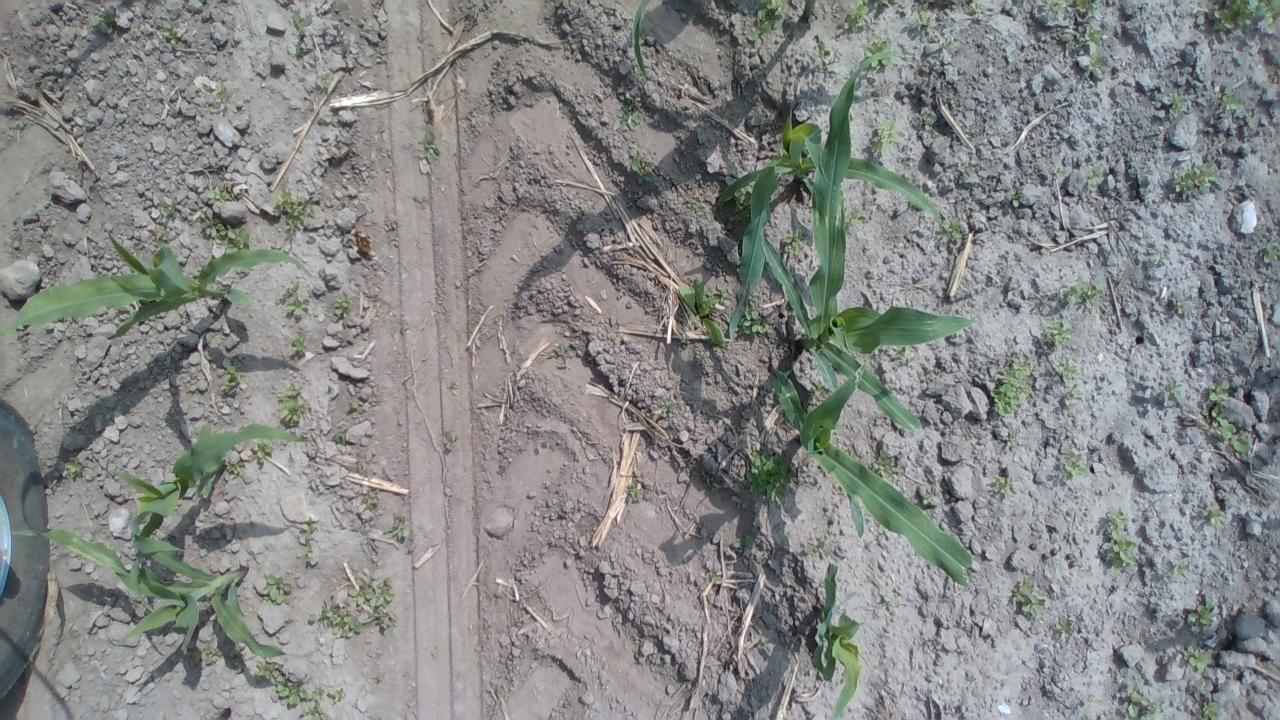Maize: (764, 52, 978, 435), (720, 108, 942, 340), (774, 363, 976, 588), (11, 523, 288, 662), (0, 235, 310, 344), (719, 97, 942, 216), (118, 422, 306, 534), (633, 0, 815, 84), (812, 563, 865, 720)
Weeds: (677, 278, 732, 348), (255, 658, 321, 706), (744, 446, 798, 503), (347, 572, 397, 632), (989, 357, 1034, 417), (306, 598, 364, 638), (1212, 0, 1280, 33), (1210, 404, 1253, 456), (198, 212, 250, 253), (1104, 512, 1138, 574), (192, 635, 244, 674), (271, 187, 312, 234), (749, 0, 787, 43), (726, 179, 755, 229), (1172, 162, 1222, 191), (1126, 678, 1160, 720), (807, 31, 840, 72), (1014, 576, 1046, 617), (870, 118, 904, 154), (277, 385, 306, 426), (258, 573, 292, 607), (1065, 280, 1105, 308), (280, 280, 309, 318), (626, 148, 656, 184), (864, 37, 896, 70), (841, 0, 872, 33), (734, 310, 770, 338), (291, 11, 312, 55), (1044, 318, 1072, 349), (872, 452, 904, 479), (1188, 601, 1216, 631), (910, 0, 935, 32), (298, 521, 319, 559), (1064, 452, 1090, 480), (802, 534, 829, 560), (936, 216, 964, 240), (1216, 88, 1241, 114), (782, 228, 809, 252), (88, 10, 114, 34), (1188, 646, 1210, 673), (417, 132, 438, 160), (618, 106, 642, 130), (218, 366, 238, 394), (1058, 360, 1080, 384), (252, 436, 272, 462), (334, 290, 352, 318), (1083, 26, 1107, 47), (64, 456, 84, 481), (160, 19, 178, 46), (302, 704, 330, 720), (994, 477, 1016, 497), (288, 334, 306, 358), (1064, 389, 1084, 410), (1208, 382, 1230, 401), (1168, 560, 1190, 579), (626, 483, 648, 502), (843, 207, 865, 226), (385, 524, 411, 540), (208, 187, 232, 204), (1075, 0, 1100, 16), (1263, 240, 1280, 263), (1044, 0, 1066, 17), (730, 535, 754, 550), (1208, 507, 1225, 528), (215, 80, 229, 105), (1203, 701, 1221, 720), (1086, 166, 1104, 185), (688, 198, 708, 215), (702, 476, 724, 491), (158, 199, 177, 216), (809, 380, 826, 398), (1168, 382, 1185, 400), (1056, 623, 1074, 639), (1088, 54, 1104, 72), (1170, 94, 1184, 114), (442, 434, 458, 451), (363, 494, 379, 511), (328, 687, 344, 704), (224, 461, 244, 474), (570, 206, 586, 222), (1008, 190, 1022, 208), (659, 398, 671, 417), (895, 346, 909, 362), (955, 164, 970, 178), (1086, 699, 1103, 711), (320, 72, 332, 88), (334, 432, 350, 444), (922, 114, 934, 130), (1064, 38, 1075, 55), (371, 673, 383, 687), (922, 495, 936, 505), (351, 398, 362, 409), (1006, 437, 1018, 446), (887, 596, 900, 604), (878, 0, 891, 8), (1176, 302, 1186, 312), (1056, 167, 1066, 177), (968, 3, 977, 14), (1108, 714, 1124, 720), (1244, 115, 1254, 124), (942, 39, 951, 48), (1160, 255, 1169, 262), (342, 63, 353, 68)
